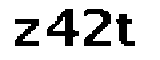2: (80, 5, 112, 51)
4: (47, 8, 82, 49)
t: (115, 11, 140, 51)
z: (11, 13, 41, 48)
